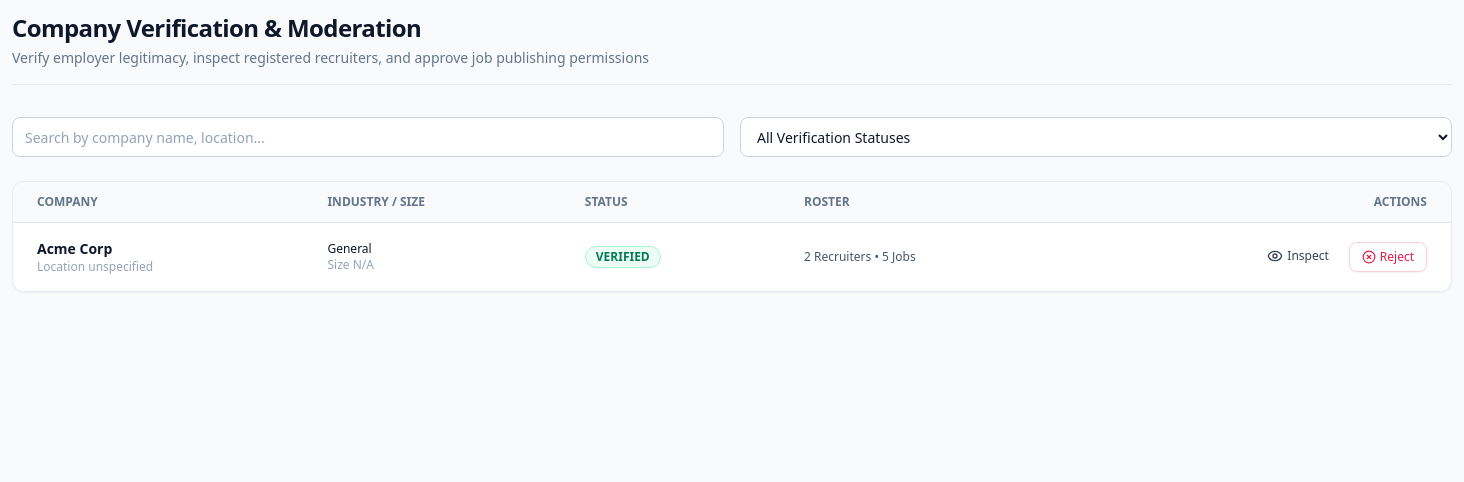
Test: Admin Dashboard Integration Workflow › Company Verification: correctly applies verification filter and shows empty state when 0 matches
Expected: the text "Acme Corp" is shown, [37,239,112,258]
// Select Pending Verification
Select "Pending Verification" in the dropdown at (1096, 137), box [740,117,1452,157]
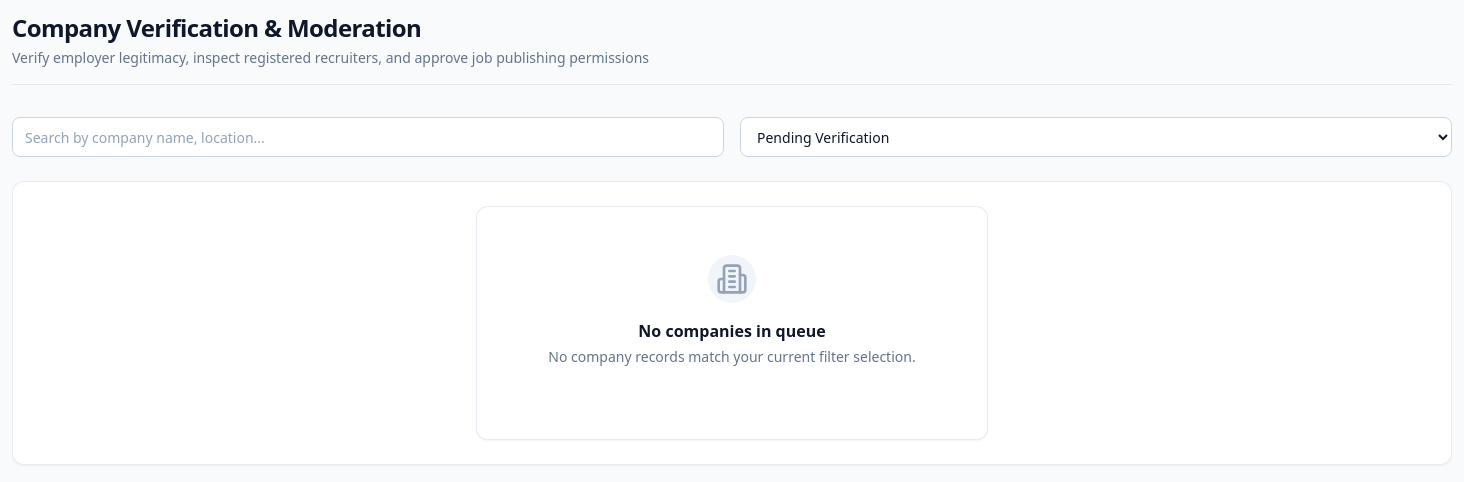
Result: the heading "No companies in queue" is shown at [638,319,826,343]
Result: the text "Acme Corp" is gone
